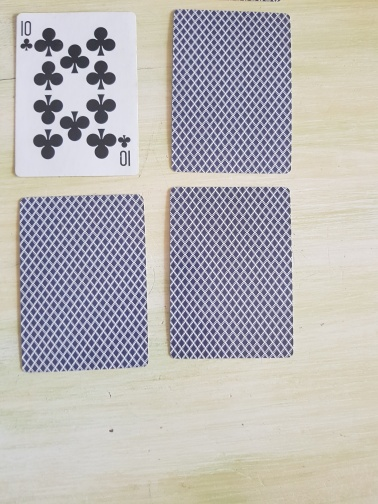ten: (12, 10, 139, 179)
